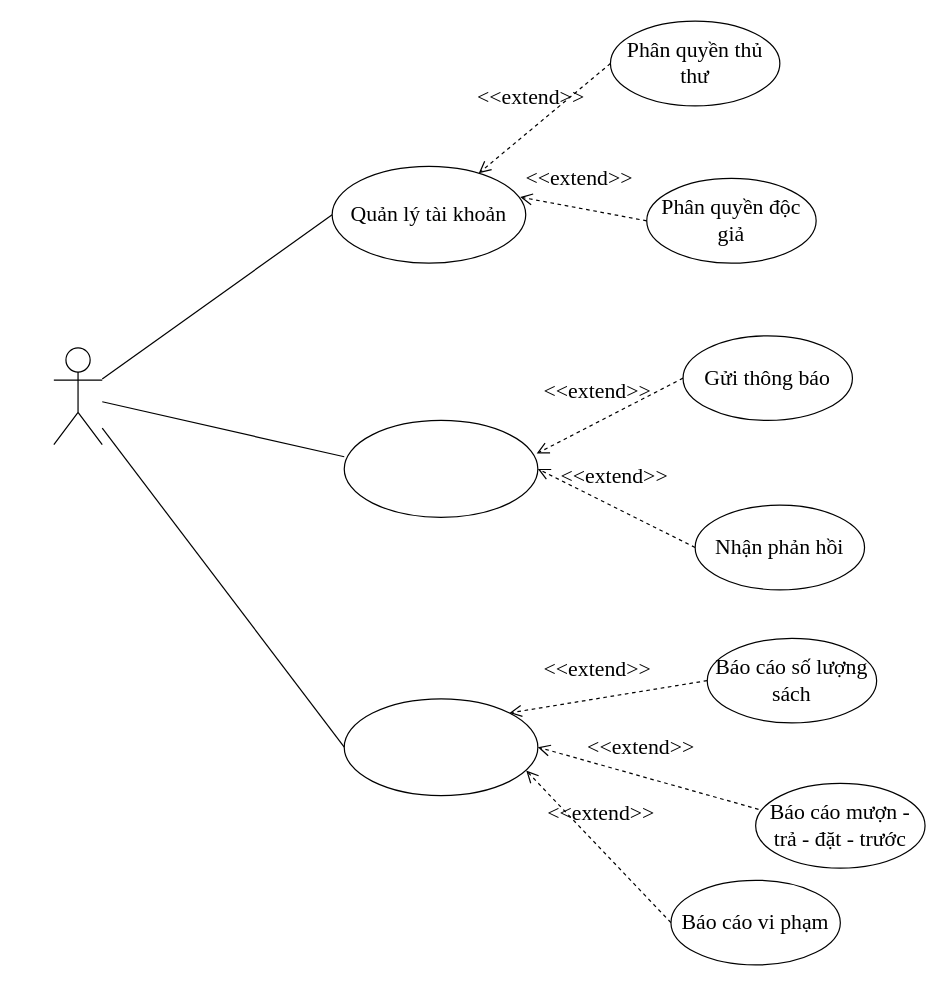
This 946x986 diagram has some shape labels left out. The shapes that lost their labels are listed below. From the top down, each one's centre as x and y in pixels, then its label:
point 77,396: Quản trị viên
point 440,468: Quản lý thông báo phản hồi
point 440,747: Quản lý báo cáo - thống kê
